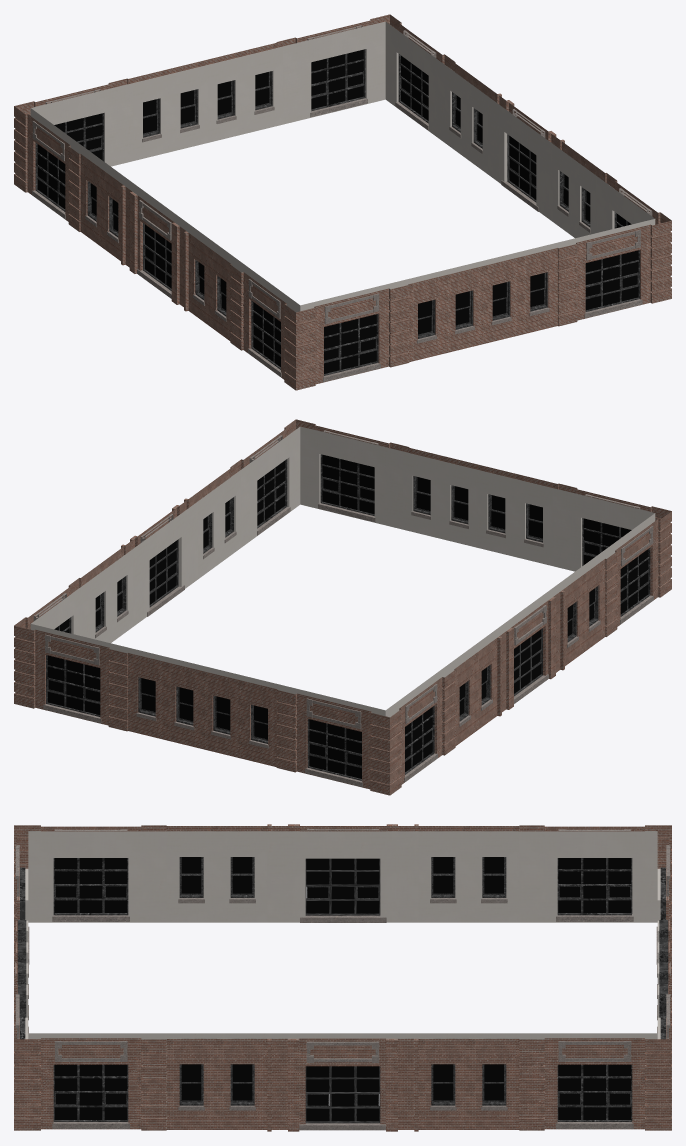
The model's file is BuildingB_Mid_VarA.fbx.
3 renders of one model, top to bottom at view 1: azimuth 30°, elevation 25°; view 2: azimuth 150°, elevation 25°; view 3: azimuth 270°, elevation 25°, orthographic. The views are drawn at different scales.
Parts seen in each view (by area): view 1: BuildingB_Mid_VarA; view 2: BuildingB_Mid_VarA; view 3: BuildingB_Mid_VarA.
Part boxes in pixels (x1=…): BuildingB_Mid_VarA: x1=14, y1=14, x2=671, y2=390; BuildingB_Mid_VarA: x1=14, y1=419, x2=671, y2=795; BuildingB_Mid_VarA: x1=14, y1=824, x2=671, y2=1131.
Size of the model in its own units: 2030 by 400 by 2614.
